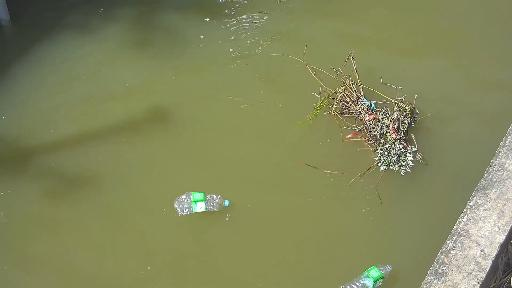plastic: (178, 186, 237, 213), (332, 264, 391, 287)
twig: (298, 50, 436, 185)
